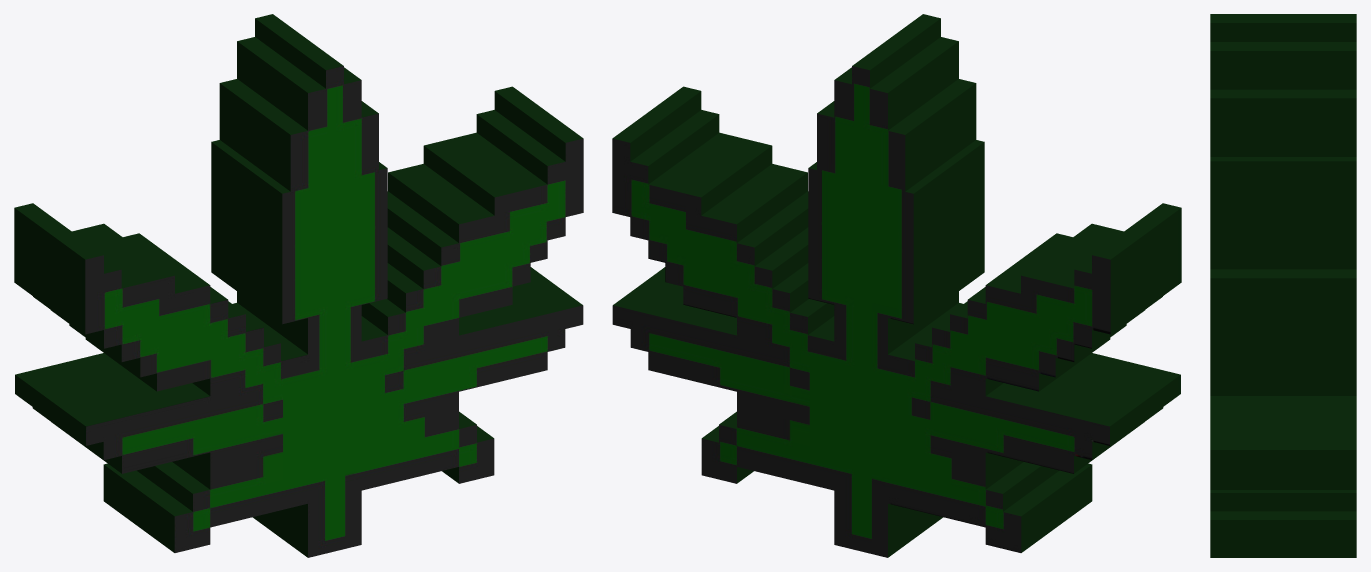
Rendered from Canabis.FBX.
3 views of the same model, side by side, from view 1: azimuth 30°, elevation 25°; view 2: azimuth 150°, elevation 25°; view 3: azimuth 270°, elevation 25° (orthographic). The views are drawn at different scales.
Parts seen in each view (by area): view 1: Canabis; view 2: Canabis; view 3: Canabis.
Boxes of the visible parts, bbox=[...] form: Canabis: bbox=[14, 14, 583, 557]; Canabis: bbox=[612, 14, 1181, 557]; Canabis: bbox=[1210, 14, 1356, 557].
Bounding box in the file's own units: 2803 × 2598 × 692.
1 material, 1 textured.
